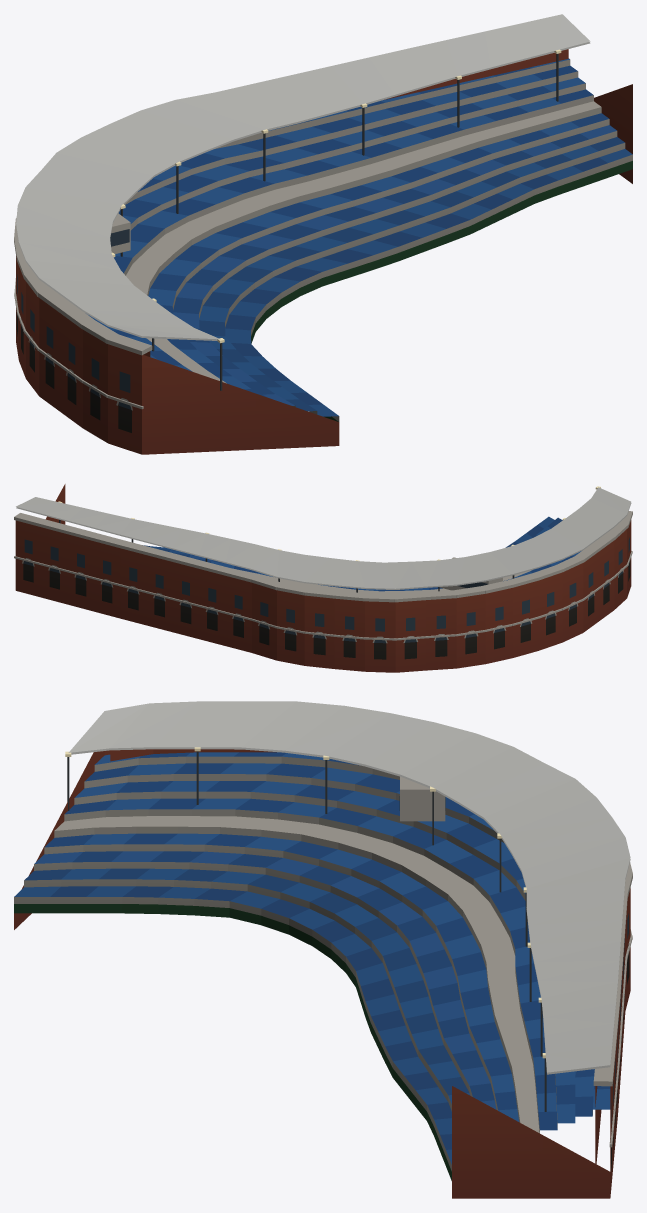
File: ballpark.glb
The picture shows the model from 3 angles, top to bottom: view 1: azimuth 30°, elevation 25°; view 2: azimuth 150°, elevation 25°; view 3: azimuth 270°, elevation 25°; orthographic projection. The views are drawn at different scales.
Visible parts, largest first — view 1: ballpark_lod0; view 2: ballpark_lod0; view 3: ballpark_lod0.
Part boxes in pixels (x1,y1,x2,y2): ballpark_lod0: (14, 14, 632, 454); ballpark_lod0: (14, 484, 632, 672); ballpark_lod0: (14, 701, 632, 1198).
Size of what is drawn, in the model's own units: 115 by 19.5 by 81.99.
